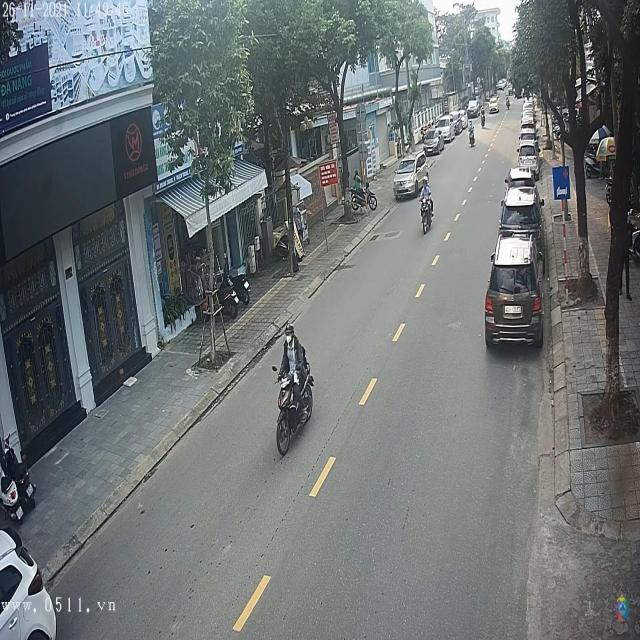car: (485, 232, 543, 348), (500, 186, 543, 238), (392, 157, 426, 200), (424, 127, 447, 155), (518, 130, 538, 149)
motorcycle: (275, 366, 314, 457), (420, 193, 433, 235)
